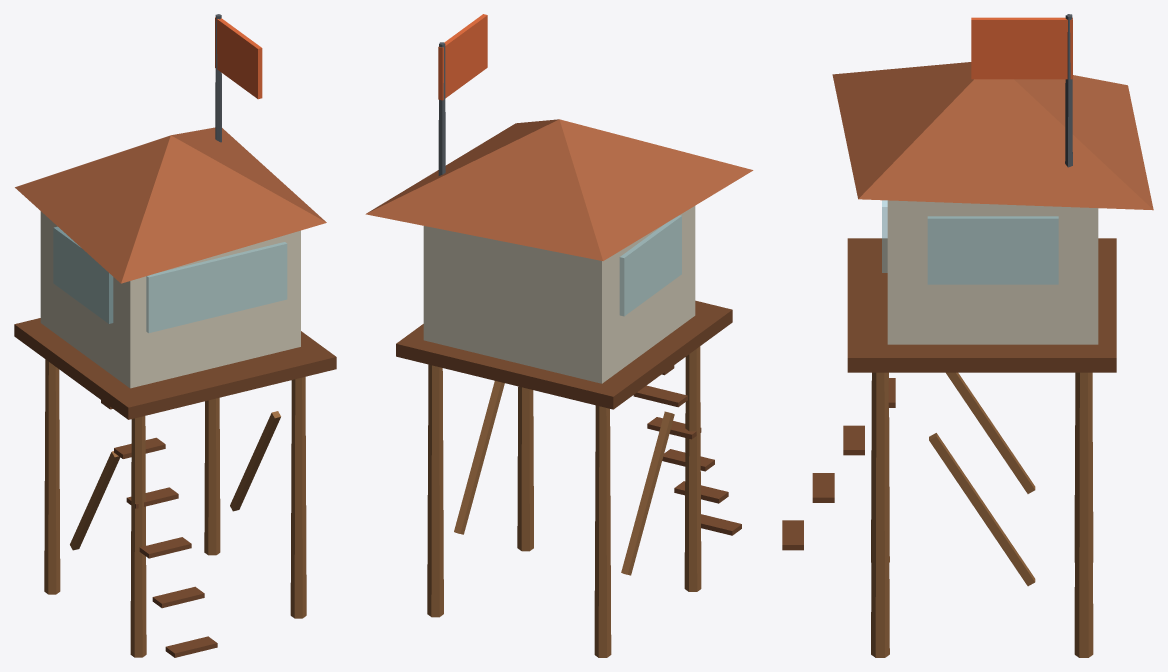
Rendered from tower-lifeguard.glb.
3 renders of one model, left to right at view 1: azimuth 30°, elevation 25°; view 2: azimuth 150°, elevation 25°; view 3: azimuth 270°, elevation 25°, orthographic. The views are drawn at different scales.
Parts seen in each view (by area): view 1: tower-lifeguard; view 2: tower-lifeguard; view 3: tower-lifeguard.
Part boxes in pixels (x1,y1,x2,y2): tower-lifeguard: [14, 14, 336, 657]; tower-lifeguard: [365, 14, 753, 657]; tower-lifeguard: [782, 14, 1153, 657].
Bounding box in the file's own units: 4.42 × 9.7 × 5.11.
